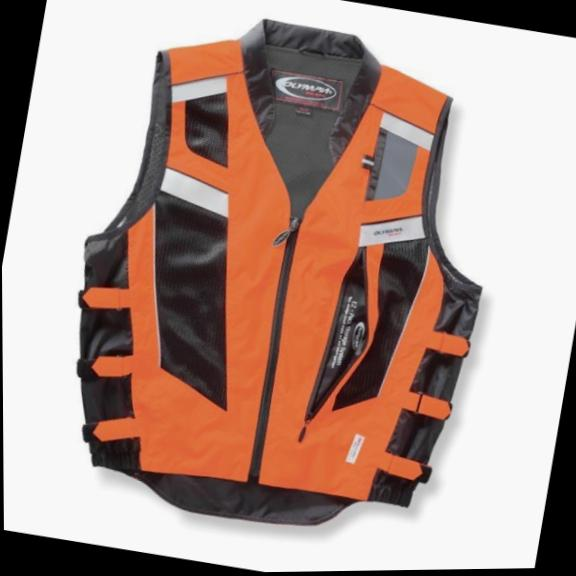safety_vest: (38, 0, 527, 558)
